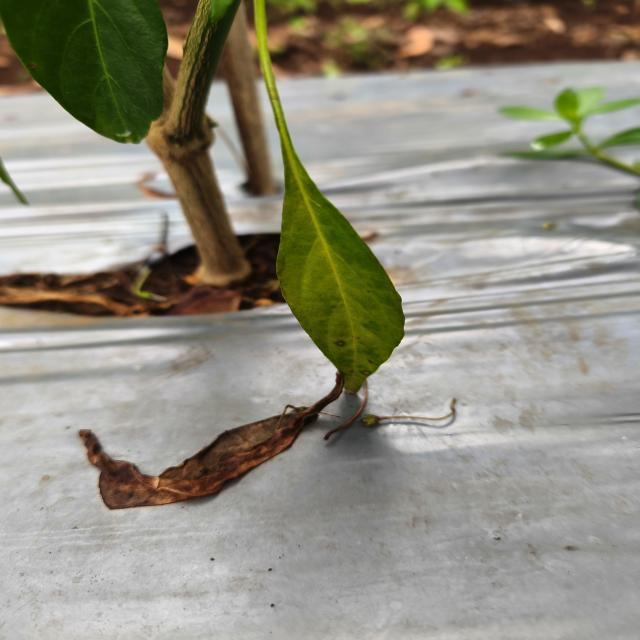Virus Kuning: (275, 155, 407, 394)
